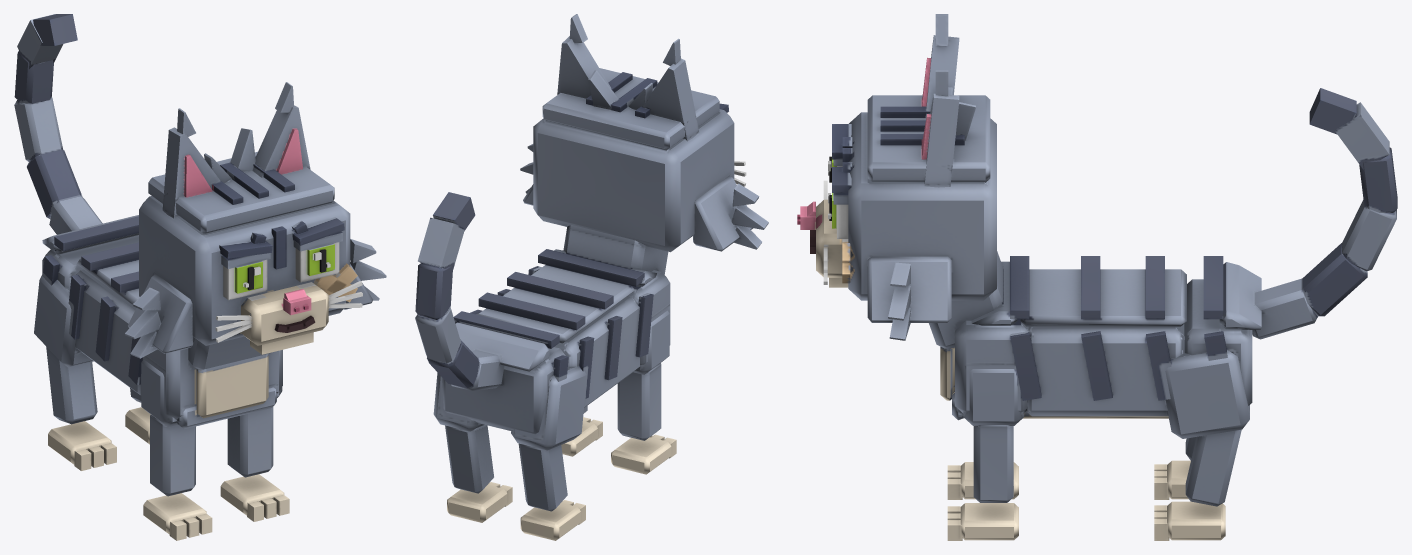
File: ChatRuelle_Rig.fbx
3 renders of one model, left to right at view 1: azimuth 30°, elevation 25°; view 2: azimuth 150°, elevation 25°; view 3: azimuth 270°, elevation 25°, orthographic. The views are drawn at different scales.
Parts seen in each view (by area): view 1: Head, Body, Tail, LegBR, LegFR, LegFL, LegBL; view 2: Head, Body, Tail, LegBR, LegFR, LegBL, LegFL; view 3: Body, Head, Tail, LegBL, LegFL, LegBR, LegFR.
Boxes of the visible parts, x1,y1,x2,y2 form: Head: (125,82,386,358); Body: (42,215,282,429); Tail: (14,14,102,234); LegBR: (34,274,116,470); LegFR: (141,359,212,540); LegFL: (220,387,289,521); LegBL: (125,388,150,444); Head: (520,14,768,252); Body: (442,224,670,434); Tail: (415,192,504,390); LegBR: (511,366,586,540); LegFR: (611,310,676,474); LegBL: (433,372,512,522); LegFL: (561,405,602,456); Body: (929,251,1261,420); Head: (797,14,996,340); Tail: (1252,88,1397,339); LegBL: (1154,350,1249,540); LegFL: (947,369,1024,540); LegBR: (1154,437,1196,499); LegFR: (947,462,1018,499).
Bounding box in the file's own units: 3.74 × 6 × 6.97.
Materials: 1 (1 with a texture image).
